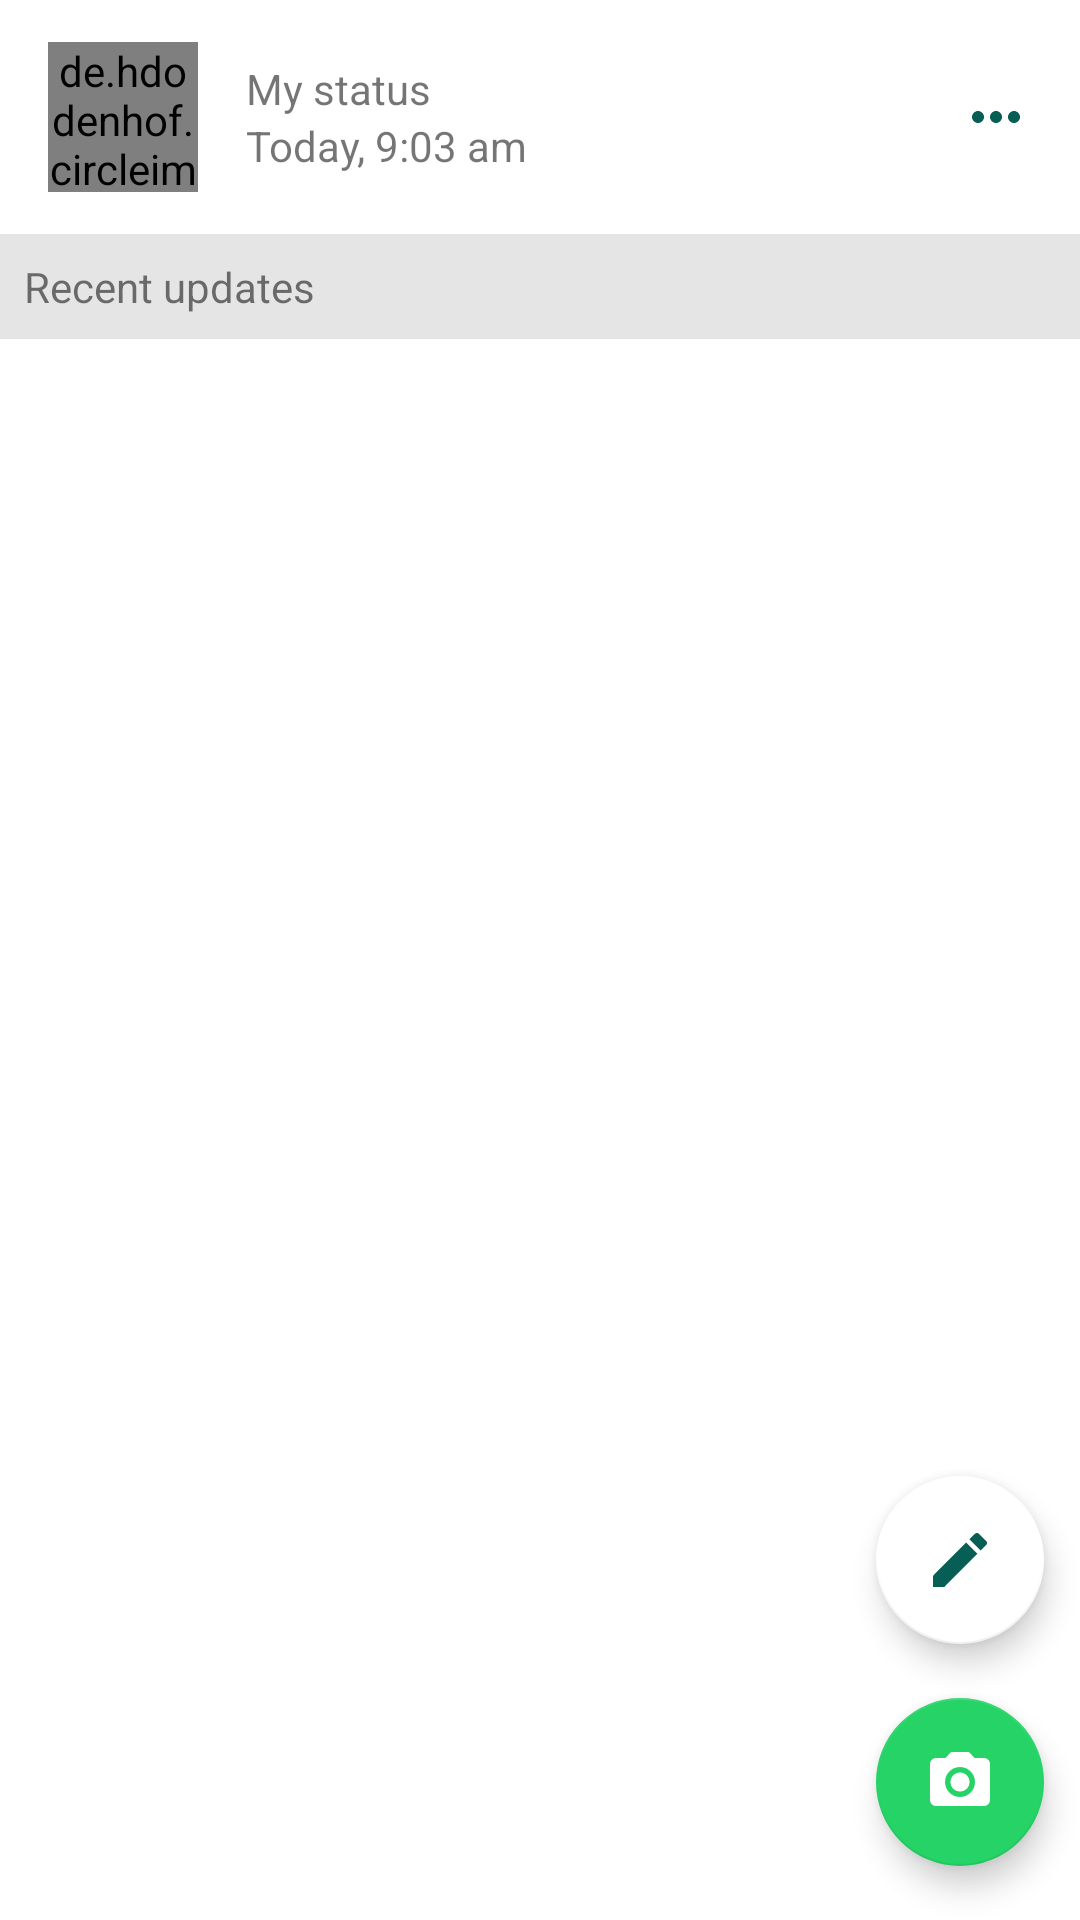

Icon click points for this 1080 x 1920 phone screenshot, format (x=x, y=y):
camera: (x=961, y=1791)
more horiz: (x=996, y=117)
